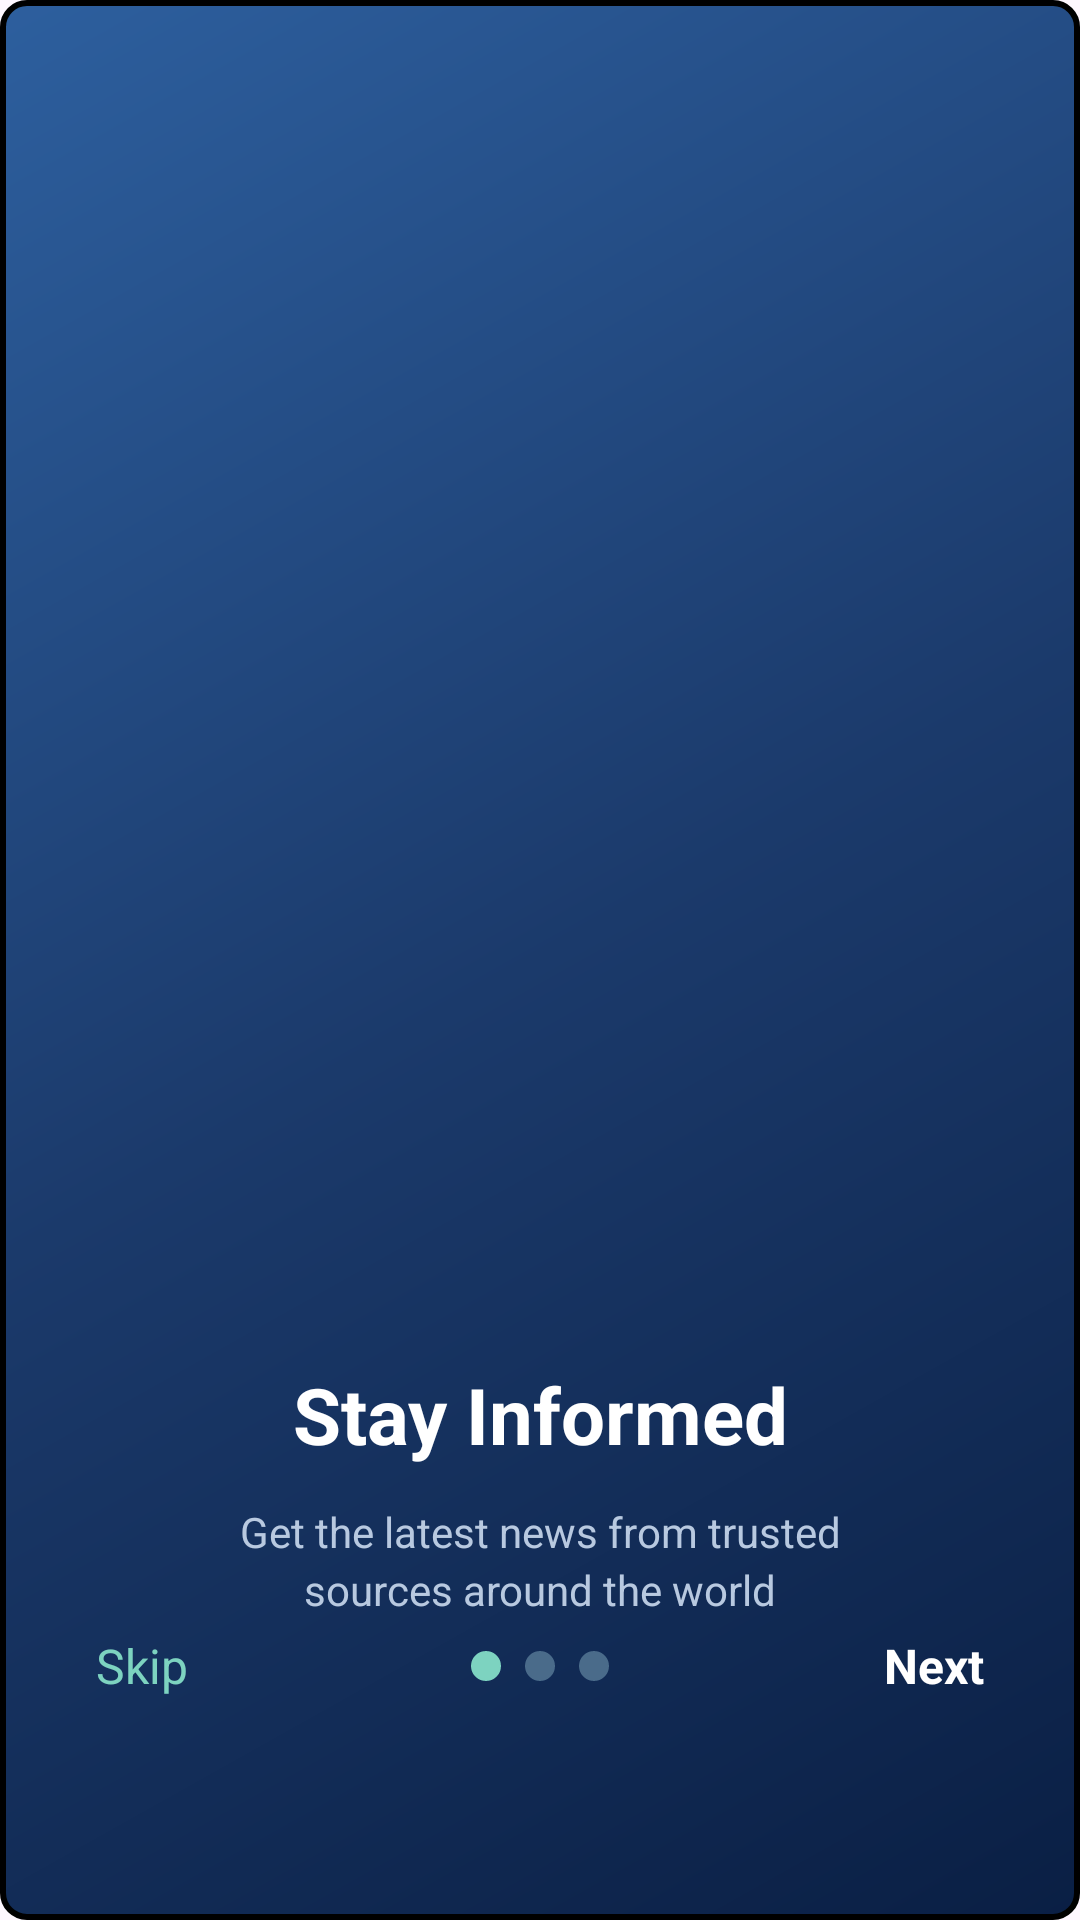

Point at icon controls on the screen. Image size 1080x1920, points as (x=x, y=y).
dot: (x=486, y=1666), (x=540, y=1666), (x=594, y=1666)
